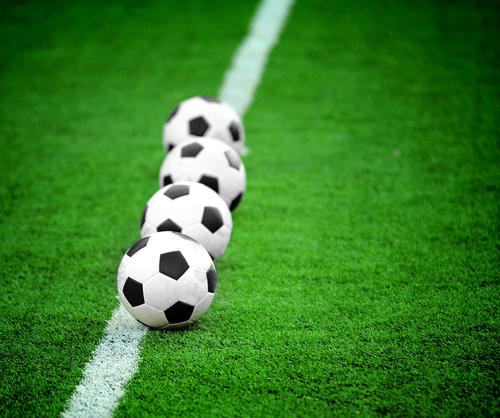football: (114, 233, 216, 332), (137, 181, 235, 266), (162, 138, 243, 215), (158, 96, 248, 157)
